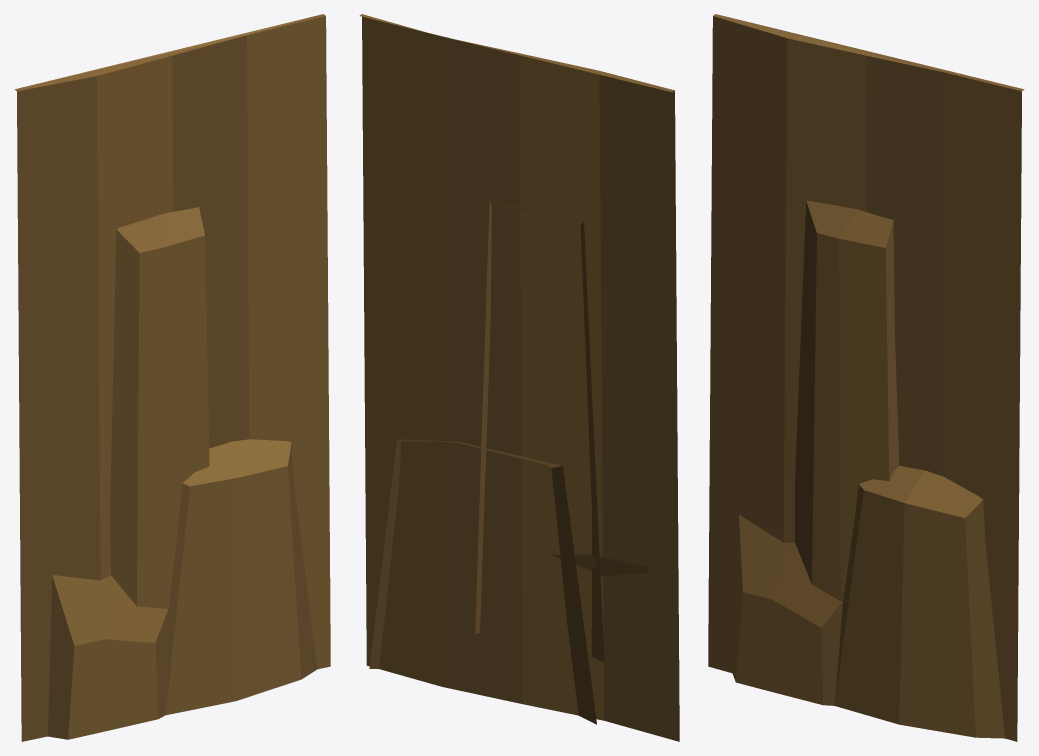
File: SD_Env_Cave_Wall_03.fbx
3 views of the same model, side by side, from view 1: azimuth 30°, elevation 25°; view 2: azimuth 150°, elevation 25°; view 3: azimuth 330°, elevation 25° (orthographic).
Parts seen in each view (by area): view 1: SD_Env_Cave_Wall_03; view 2: SD_Env_Cave_Wall_03; view 3: SD_Env_Cave_Wall_03.
Boxes of the visible parts, x1=… form: SD_Env_Cave_Wall_03: x1=14, y1=14, x2=330, y2=741; SD_Env_Cave_Wall_03: x1=359, y1=14, x2=679, y2=741; SD_Env_Cave_Wall_03: x1=708, y1=14, x2=1024, y2=741.
Size of the model in its own units: 10 by 20 by 1.08.
